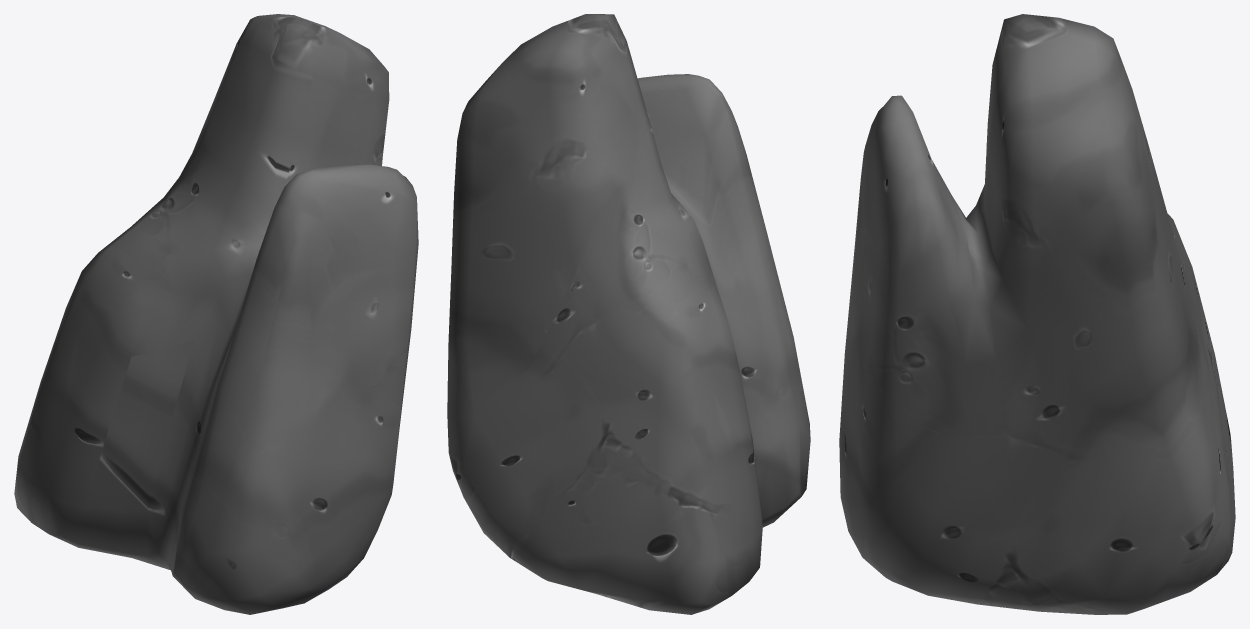
The model's file is SM_ENV_stone_08.fbx.
3 renders of one model, left to right at view 1: azimuth 30°, elevation 25°; view 2: azimuth 150°, elevation 25°; view 3: azimuth 270°, elevation 25°, orthographic. The views are drawn at different scales.
Parts seen in each view (by area): view 1: SM_ENV_stone_08_LOD0; view 2: SM_ENV_stone_08_LOD0; view 3: SM_ENV_stone_08_LOD0.
Part boxes in pixels (x1,y1,x2,y2): SM_ENV_stone_08_LOD0: (14,14,418,614); SM_ENV_stone_08_LOD0: (447,14,810,614); SM_ENV_stone_08_LOD0: (839,14,1235,614).
Size of what is drawn, in the model's own units: 219 by 358 by 219.
